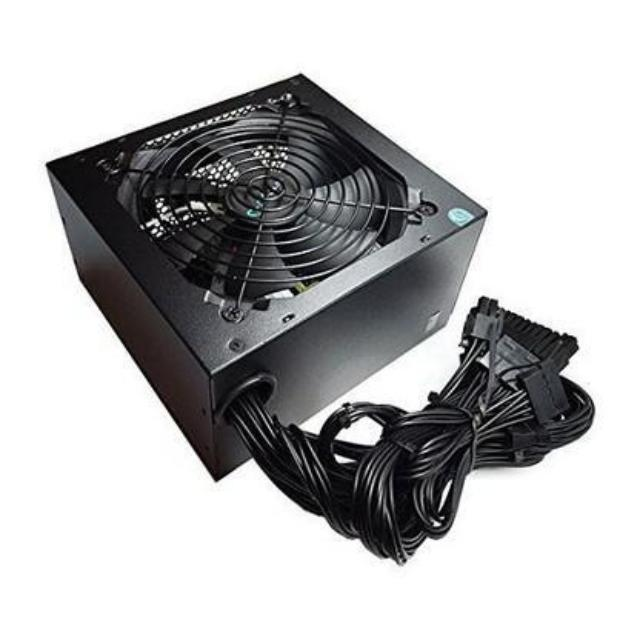PSU: (37, 56, 497, 487)
